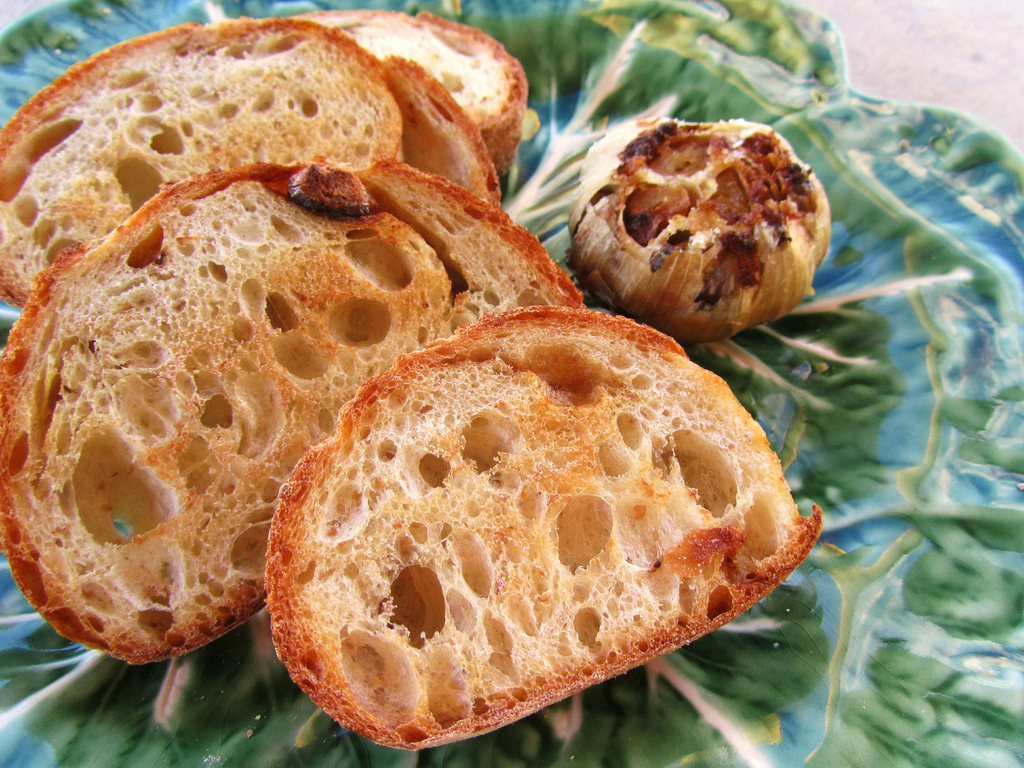slice of bread: (1, 165, 567, 652), (277, 300, 803, 742), (1, 24, 388, 285)
